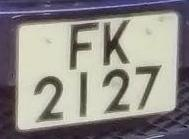1: (70, 67, 98, 122)
2: (27, 66, 71, 128), (98, 67, 135, 116)
7: (132, 64, 167, 111)
F: (67, 21, 102, 72)
K: (99, 19, 134, 68)
